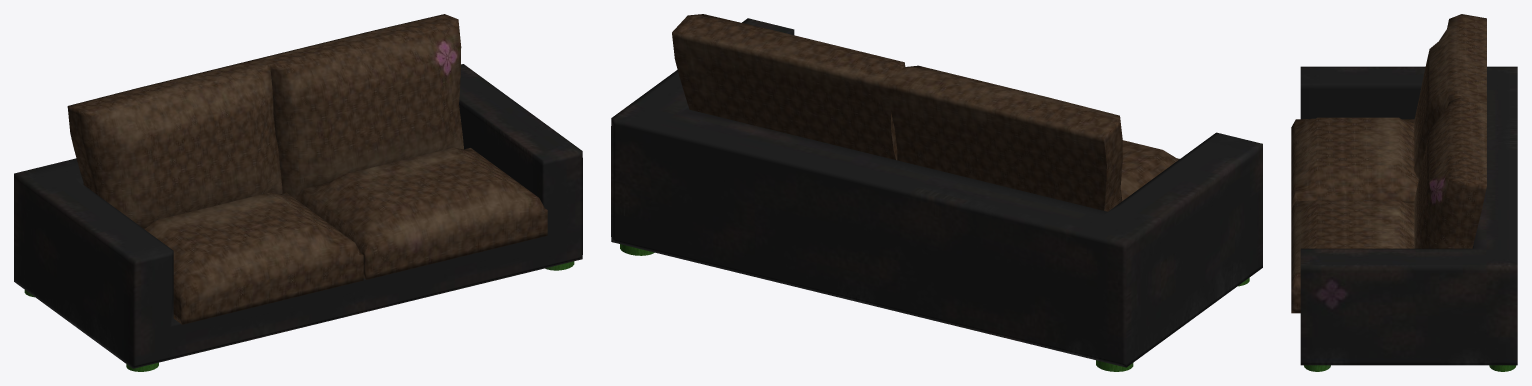
3 renders of one model, left to right at view 1: azimuth 30°, elevation 25°; view 2: azimuth 150°, elevation 25°; view 3: azimuth 270°, elevation 25°, orthographic. The views are drawn at different scales.
Visible parts, largest first — view 1: sofa_edge, polySurface3, polySurface2, cushion_lef1, cushion_lef; view 2: sofa_edge, polySurface2, polySurface3, cushion_lef; view 3: sofa_edge, cushion_lef, polySurface3, cushion_lef1, polySurface2.
Part boxes in pixels (<box>): sofa_edge: <box>14,64,582,368</box>; polySurface3: <box>256,14,463,199</box>; polySurface2: <box>67,59,282,227</box>; cushion_lef1: <box>296,147,547,279</box>; cushion_lef: <box>143,192,363,324</box>; sofa_edge: <box>611,18,1262,367</box>; polySurface2: <box>888,65,1122,211</box>; polySurface3: <box>672,14,905,160</box>; cushion_lef: <box>1120,140,1179,200</box>; sofa_edge: <box>1300,66,1517,365</box>; cushion_lef: <box>1291,117,1418,208</box>; polySurface3: <box>1414,97,1486,248</box>; cushion_lef1: <box>1291,199,1414,313</box>; polySurface2: <box>1414,14,1486,179</box>.
Size of the model in its own units: 2 by 0.8181 by 0.9575.
Materials: 1 (1 with a texture image).
